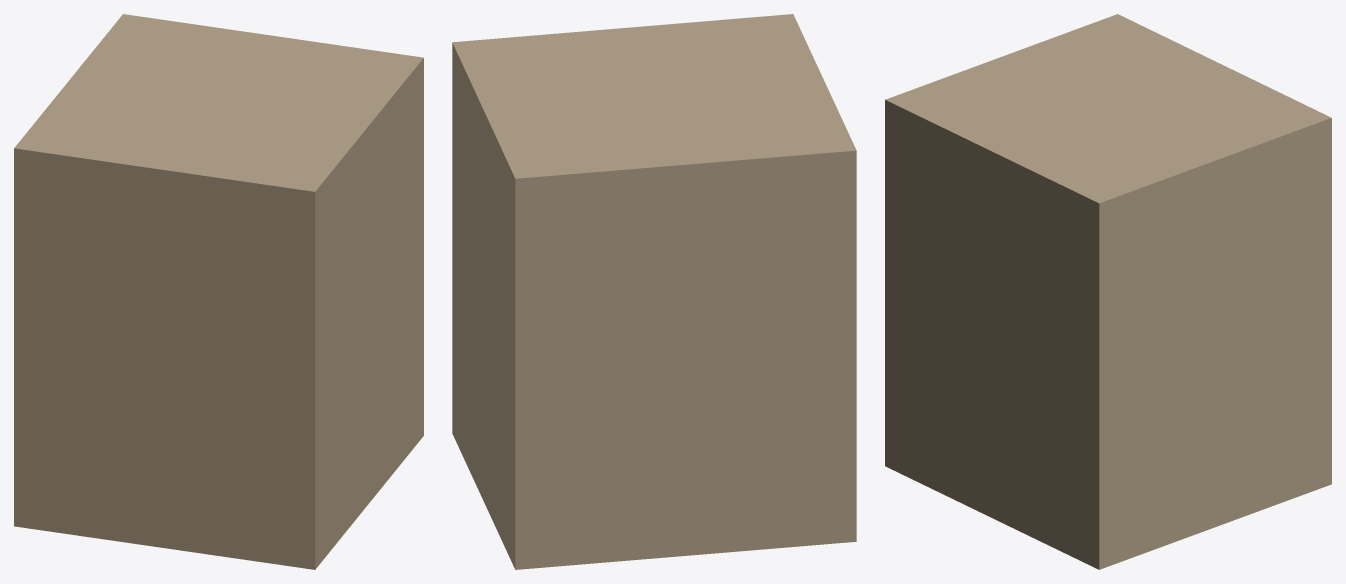
File: bld_104408978.dae
3 renders of one model, left to right at view 1: azimuth 30°, elevation 25°; view 2: azimuth 150°, elevation 25°; view 3: azimuth 270°, elevation 25°, orthographic. The views are drawn at different scales.
Visible parts, largest first — view 1: bld_104408978; view 2: bld_104408978; view 3: bld_104408978.
Part boxes in pixels (x1,y1,x2,y2): bld_104408978: (14, 14, 423, 569); bld_104408978: (452, 14, 856, 569); bld_104408978: (885, 14, 1331, 569).
Size of the model in its own units: 8.87 by 8.83 by 8.
